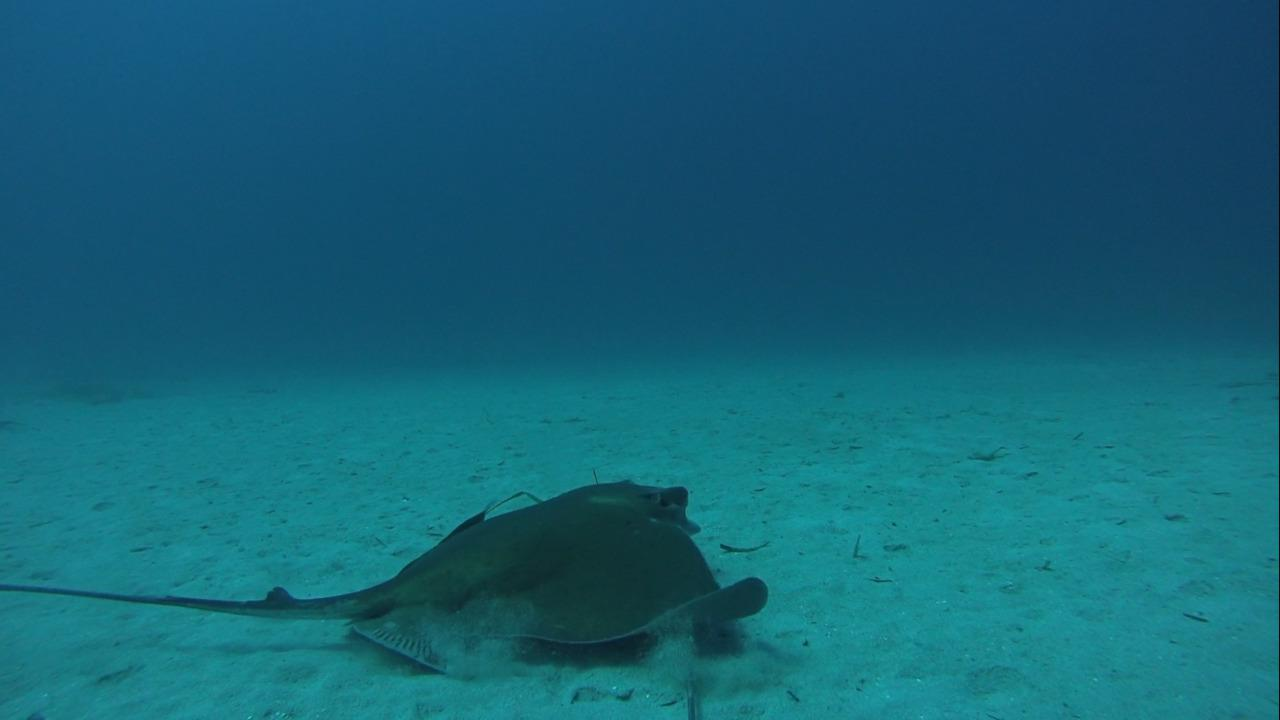myliobatis: (4, 475, 777, 678)
